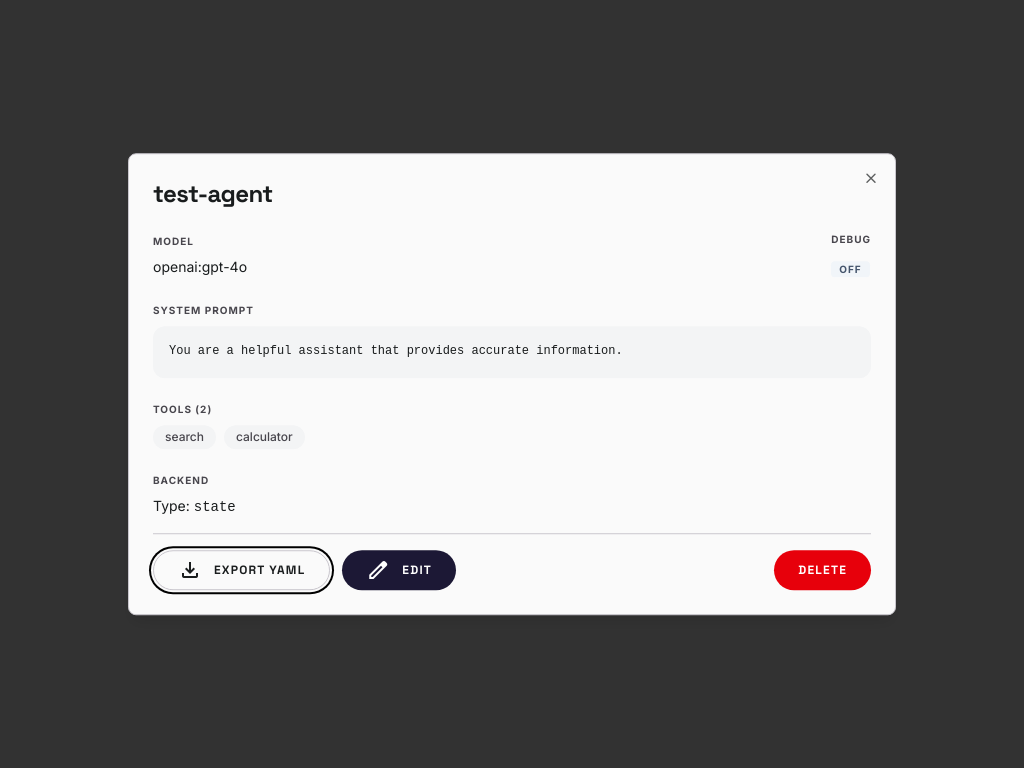
Test: AgentConfigViewer › shows delete button and requires confirmation
The width and height of the screenshot is (1024, 768).
Click the button "Delete" at (823, 570), box 774,550 -> 871,590
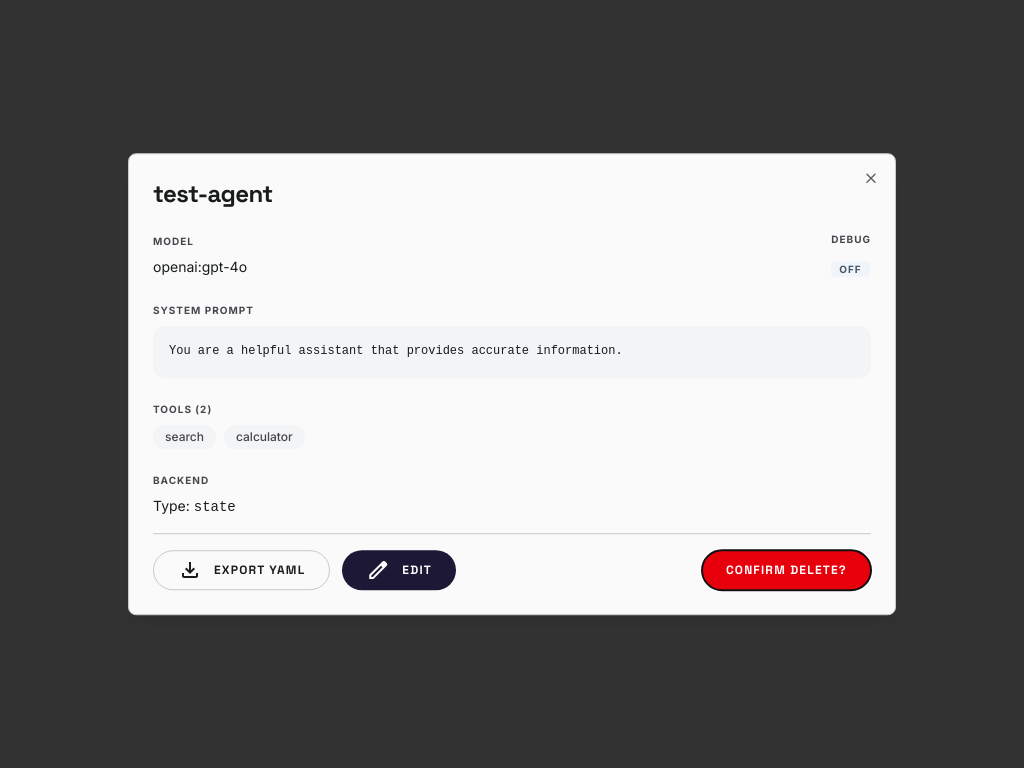
Now the button "Confirm Delete?" is shown, box 702,550 -> 871,590
